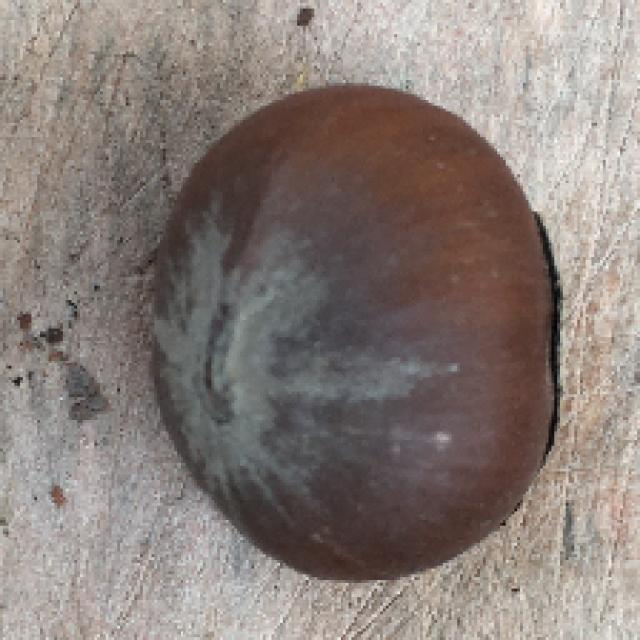damagedHazelnut: (147, 77, 567, 589)
